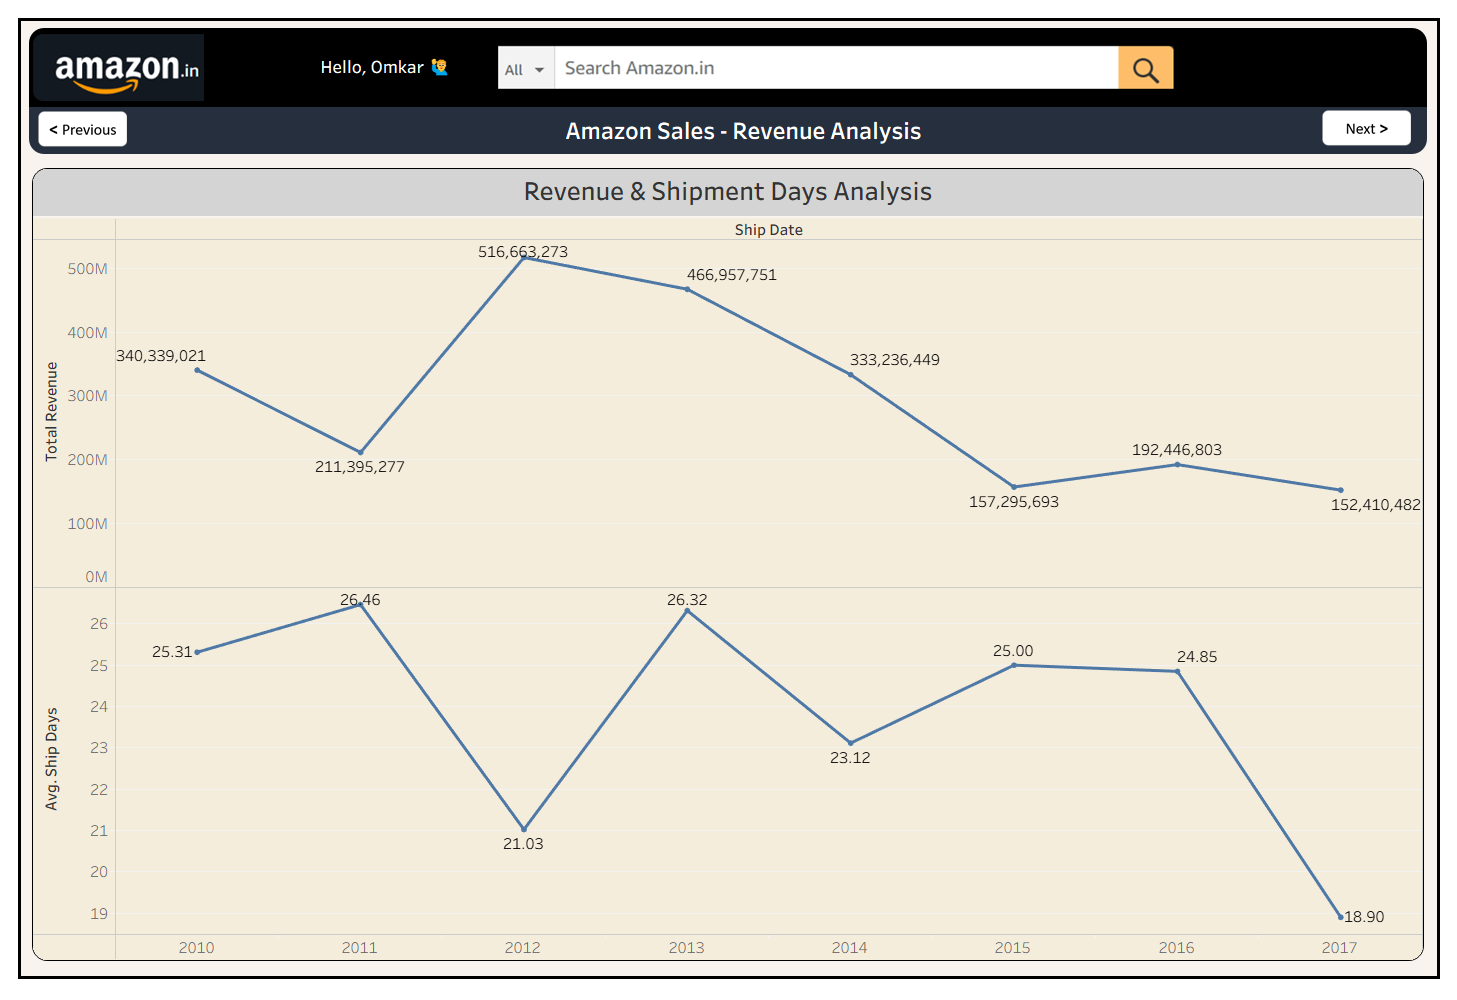

The dashboard page shown, as its layout file describes it:
{"tool":"tableau","page":{"name":"Revenue Analysis","canvas":[1000,1000],"units":"permille","ordinal":2},"visuals":[{"type":"blank","box":[0,0,1001.4,1001]},{"type":"blank","box":[7.8,10.4,984.5,105.2]},{"type":"image","param":"Image/Picture3.png","box":[10.6,16.3,126.5,69.8]},{"type":"image","param":"Image/Picture5.png","box":[338,28.1,476.1,49]},{"type":"text","box":[210.6,32.3,112.7,35.4]},{"type":"blank","box":[7.8,92.7,984.5,49]},{"type":"dashboard-object","box":[918.3,94.8,62.7,42.7]},{"type":"dashboard-object","box":[14.1,95.8,62.7,42.7]},{"type":"text","box":[383.1,95.8,277.5,40.6]},{"type":"worksheet","title":"Revenue & Shipment Days Analysis","mark":"Automatic","rows":["Total Revenue","Calculation_0892825133789185"],"cols":["Ship Date"],"box":[9.9,156.2,980.3,826]}]}

Visuals, with their boxes on the dashboard's canvas, which has no fixed pixel size, in thousandths of its width and height (x1, y1, x2, y2). These are canvas units, not pixel positions in the 1457x1000 screenshot, which may show the page scaled, cropped or inside an application window:
blank: l=0, t=0, r=1001, b=1001
blank: l=8, t=10, r=992, b=116
image: l=11, t=16, r=137, b=86
image: l=338, t=28, r=814, b=77
text: l=211, t=32, r=323, b=68
blank: l=8, t=93, r=992, b=142
dashboard-object: l=918, t=95, r=981, b=138
dashboard-object: l=14, t=96, r=77, b=138
text: l=383, t=96, r=661, b=136
"Revenue & Shipment Days Analysis" worksheet: l=10, t=156, r=990, b=982
